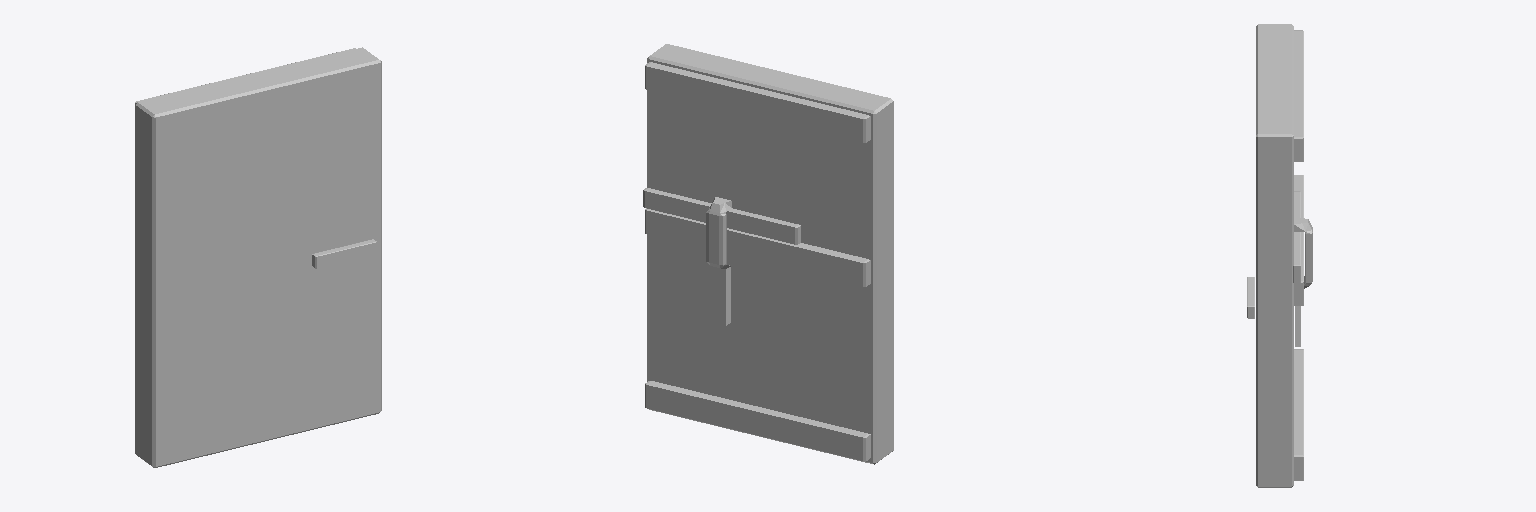
The model's file is Door.obj.
3 renders of one model, left to right at view 1: azimuth 30°, elevation 25°; view 2: azimuth 150°, elevation 25°; view 3: azimuth 270°, elevation 25°, orthographic.
Parts seen in each view (by area): view 1: polySurface2091; view 2: polySurface2091; view 3: polySurface2091.
Boxes of the visible parts, box(x1,y1,x2,y2) form: polySurface2091: box(135, 47, 381, 467); polySurface2091: box(643, 44, 893, 464); polySurface2091: box(1247, 24, 1312, 487).
Bounding box in the file's own units: 105 × 155 × 26.22.